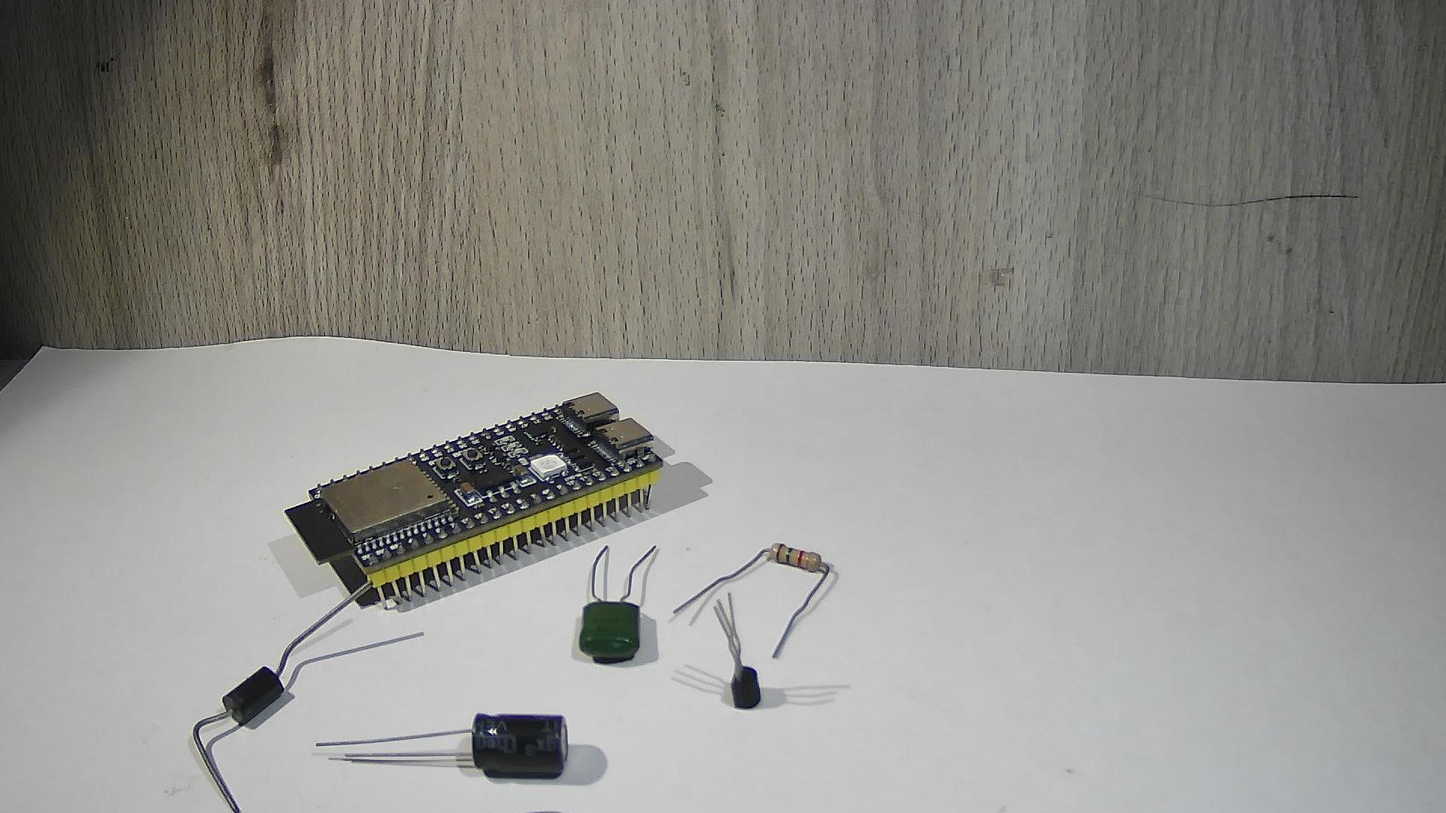Capacitor: (387, 705, 595, 790)
Diodo: (168, 624, 336, 778)
ESP32: (274, 384, 680, 580)
Resistencia: (741, 526, 854, 615)
Transistor: (692, 582, 778, 733)
capacitor ceramico: (559, 537, 663, 690)
